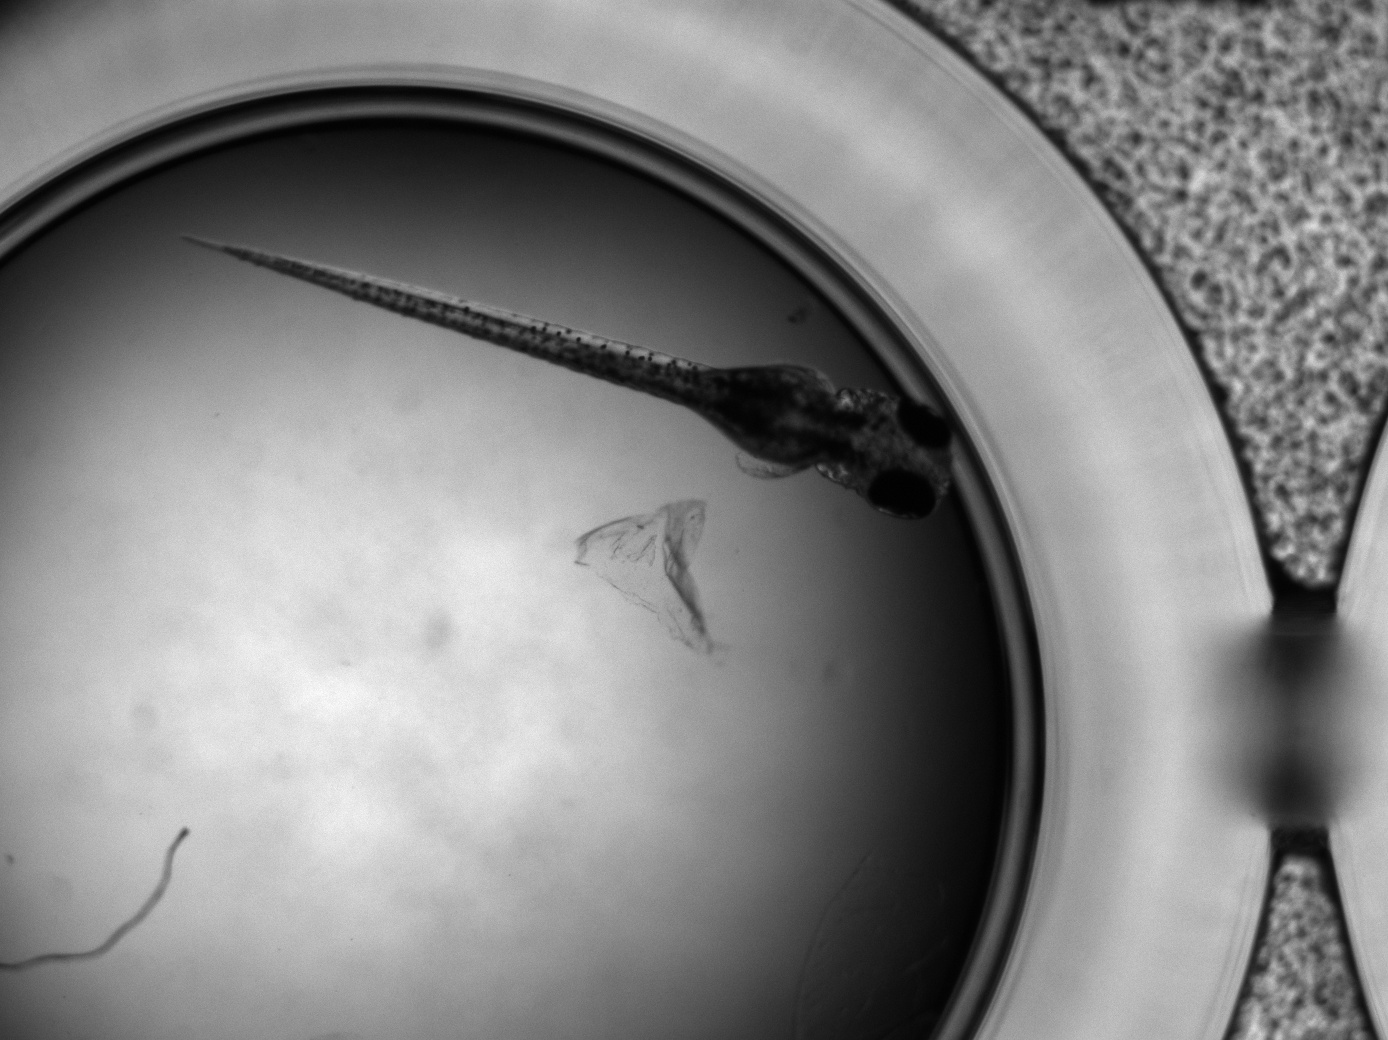debris: (1, 825, 192, 988), (568, 495, 717, 661)
embryo: (177, 227, 956, 523)
eye: (867, 469, 938, 521), (894, 395, 954, 453)
yolksac: (705, 362, 837, 463)
